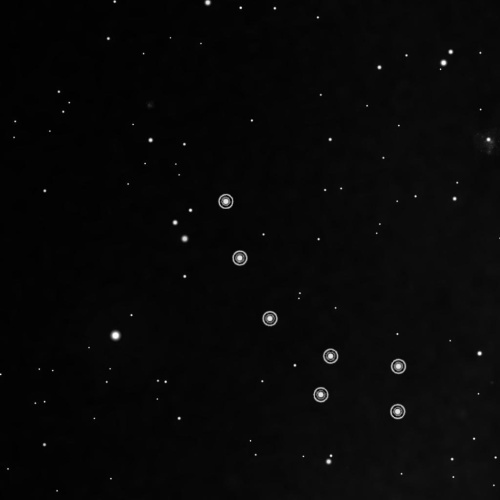ursa_minor: (214, 187, 412, 425)
